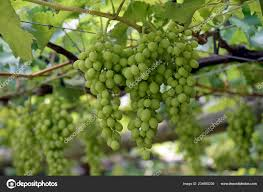grapes: (78, 39, 134, 152), (132, 30, 172, 160), (169, 25, 203, 127), (37, 97, 74, 174)
